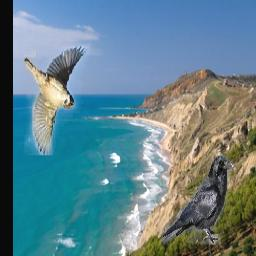Crow: (160, 156, 233, 246)
Sparrow: (23, 46, 88, 155)
